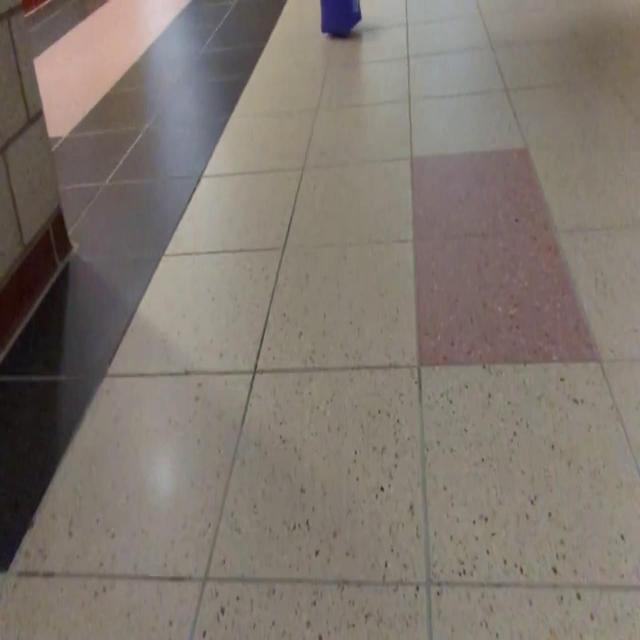frc_cube: (320, 0, 362, 36)
